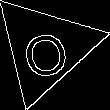O_N: (18, 17, 73, 78)
